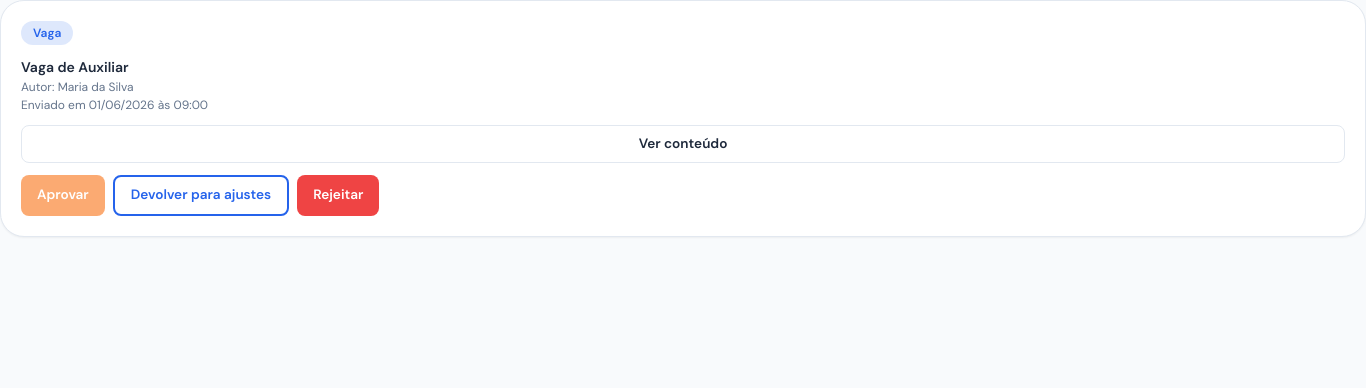
Test: ModerationQueue › cancelar fecha o formulário de motivo e volta às ações
This screenshot has width=1366, height=388.
What coordinates should you click on to do the following:
click the button "Devolver para ajustes"
I would click on:
 (201, 196)
Its box is [113, 175, 289, 216].
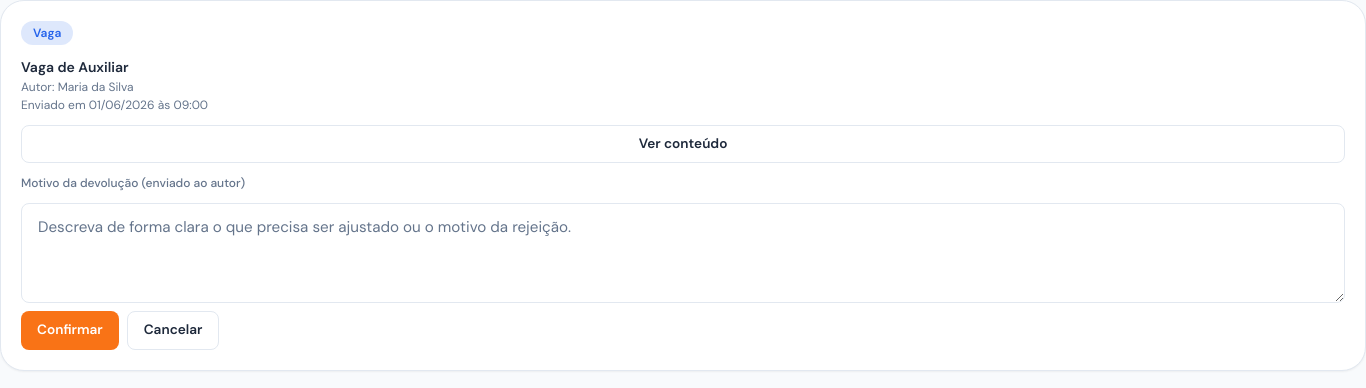
Check: the text box labelled "Motivo da devolução (enviado ao autor)" is shown, box [21, 203, 1345, 303]
What coordinates should you click on to do the following:
click the button "Cancelar"
I would click on:
 (173, 331)
Its box is [127, 311, 220, 350].
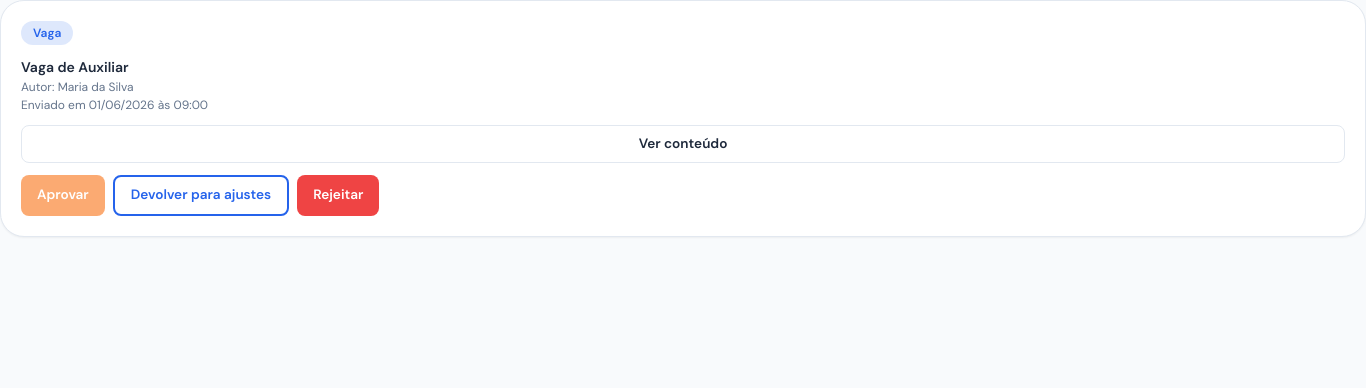
Check: the label labelled "Motivo da devolução" is gone
Check: the button "Aprovar" is shown, box [21, 175, 105, 216]
